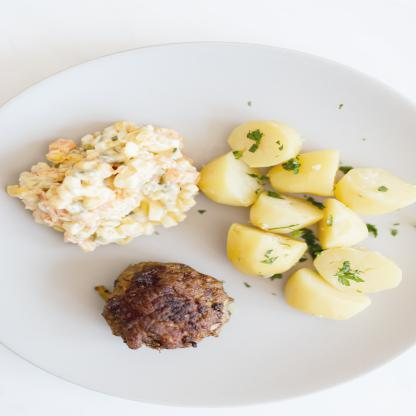Carne: (102, 259, 238, 345)
